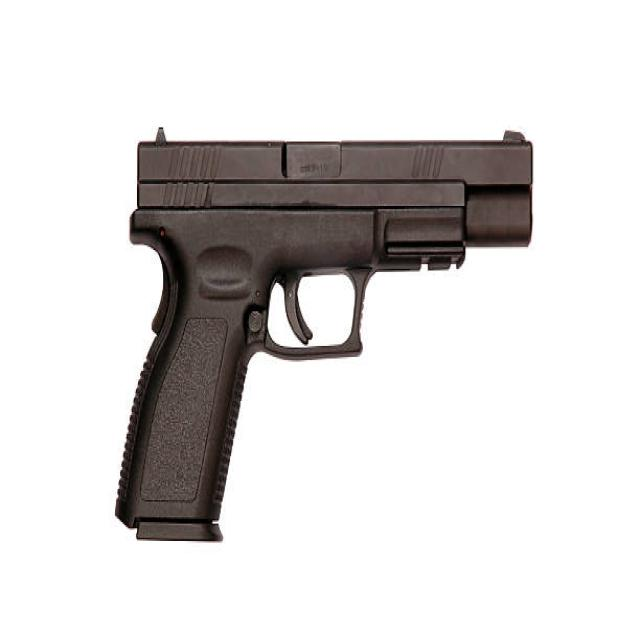pistol: (117, 118, 541, 549)
